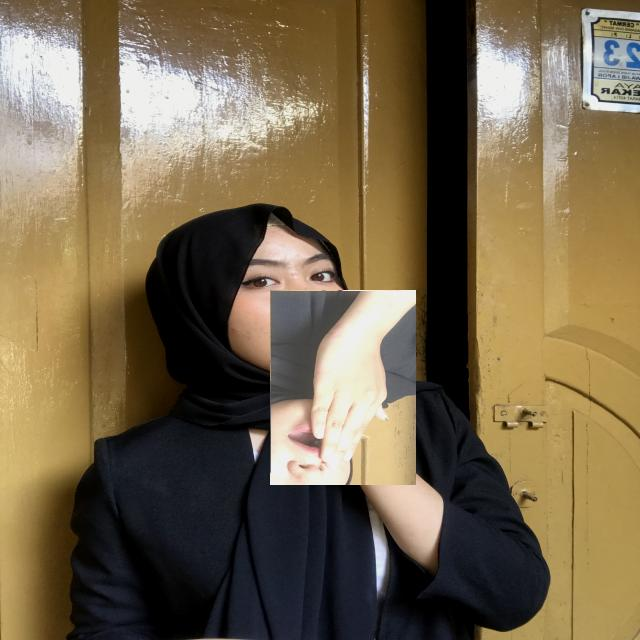ngantuk: (270, 290, 416, 485)
